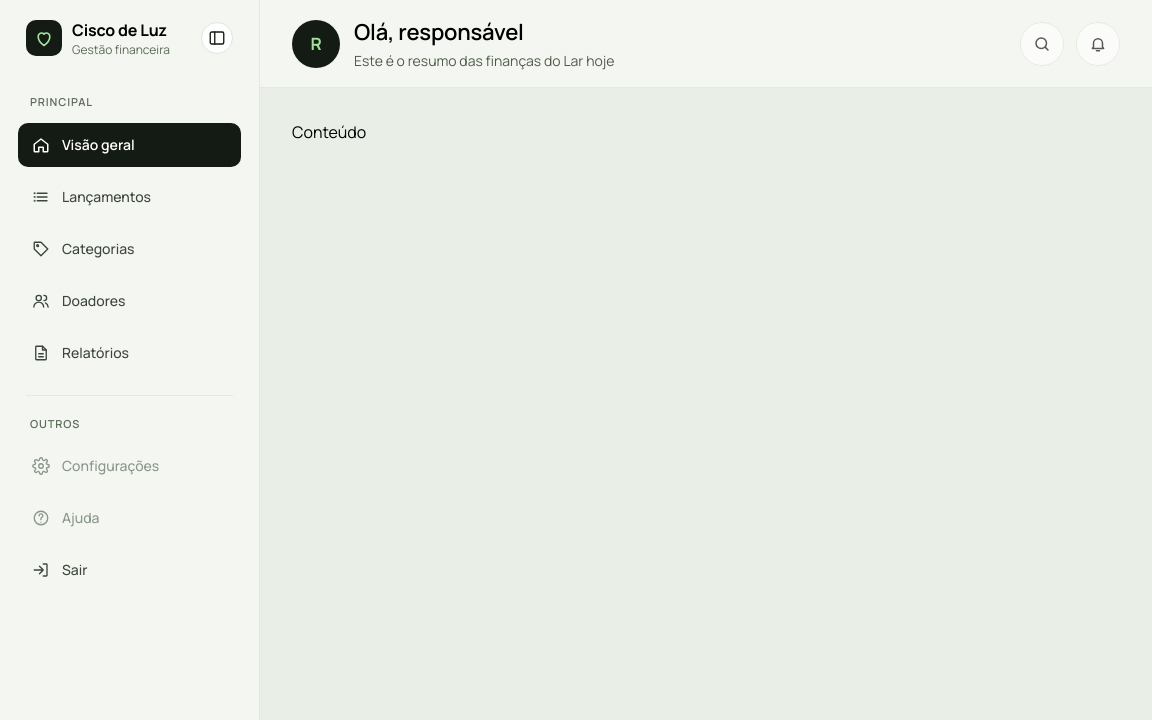
AppShell › recolhe e reabre o menu lateral ao clicar no botão de alternância
The width and height of the screenshot is (1152, 720).
Click the button named "Fechar menu lateral" at (217, 38), box [201, 22, 233, 54]
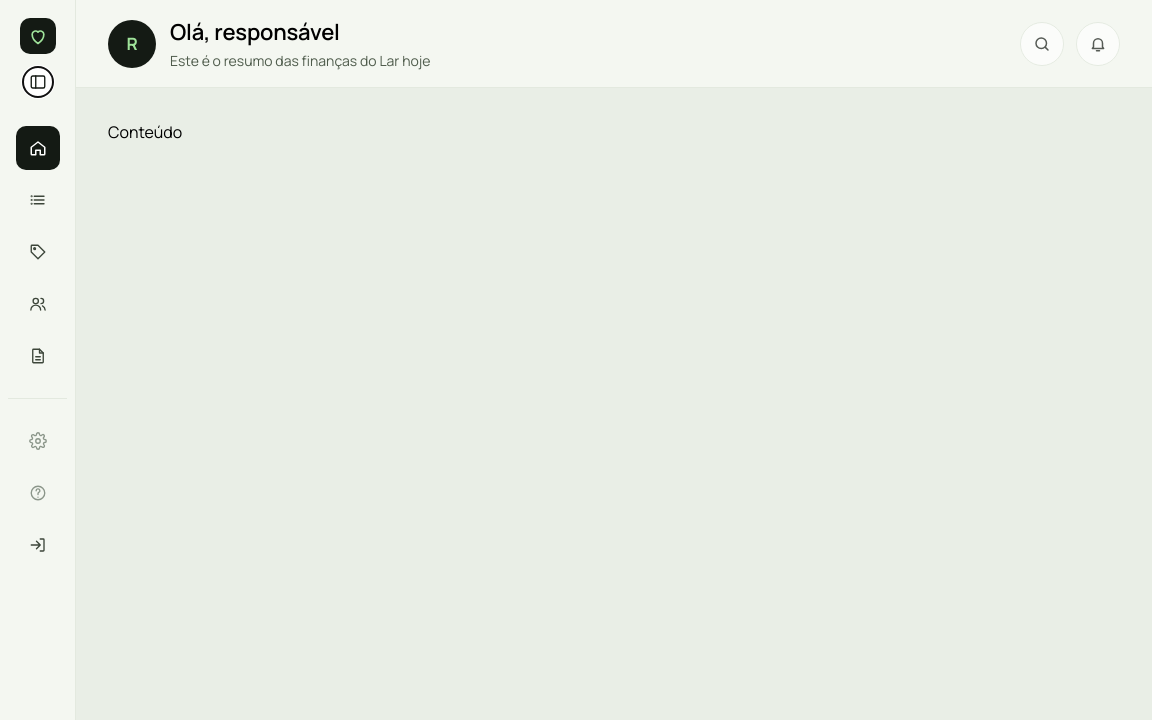
Check: the button named "Abrir menu lateral" is collapsed, box [22, 66, 54, 98]
